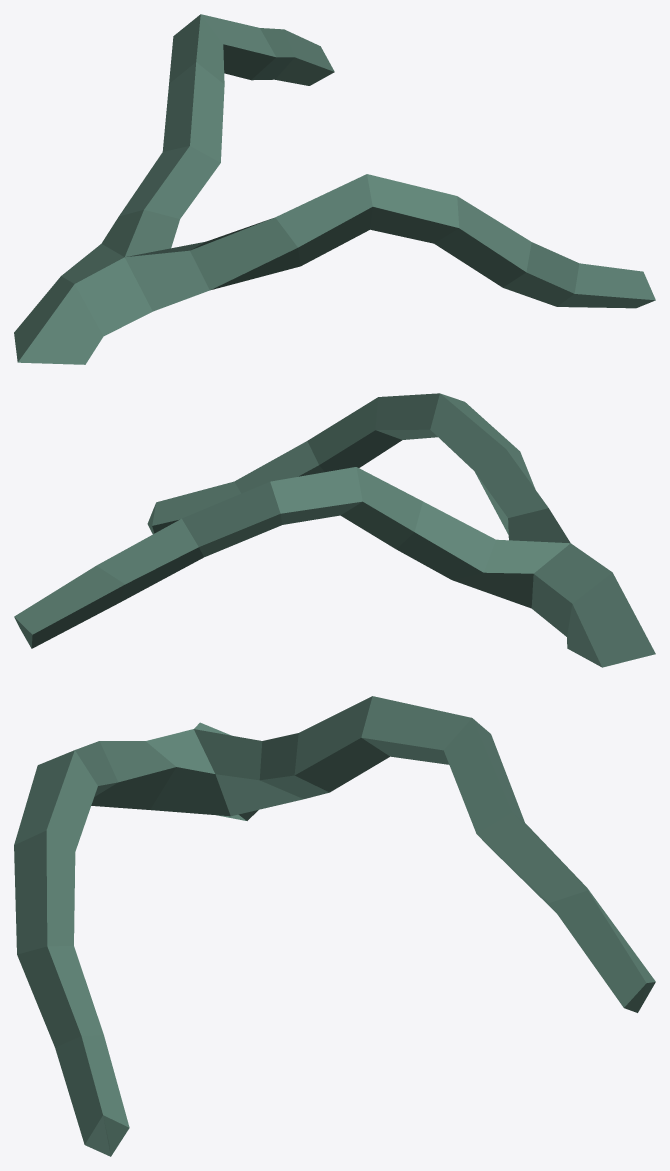
Rendered from raiz_3.fbx.
The picture shows the model from 3 angles, top to bottom: view 1: azimuth 30°, elevation 25°; view 2: azimuth 150°, elevation 25°; view 3: azimuth 270°, elevation 25°; orthographic projection. The views are drawn at different scales.
Parts seen in each view (by area): view 1: p_raiz_grande; view 2: p_raiz_grande; view 3: p_raiz_grande.
Part boxes in pixels (x1,y1,x2,y2): p_raiz_grande: (14, 14, 655, 364); p_raiz_grande: (14, 393, 655, 667); p_raiz_grande: (14, 696, 655, 1156).
Bounding box in the file's own units: 122 × 49.4 × 101.
